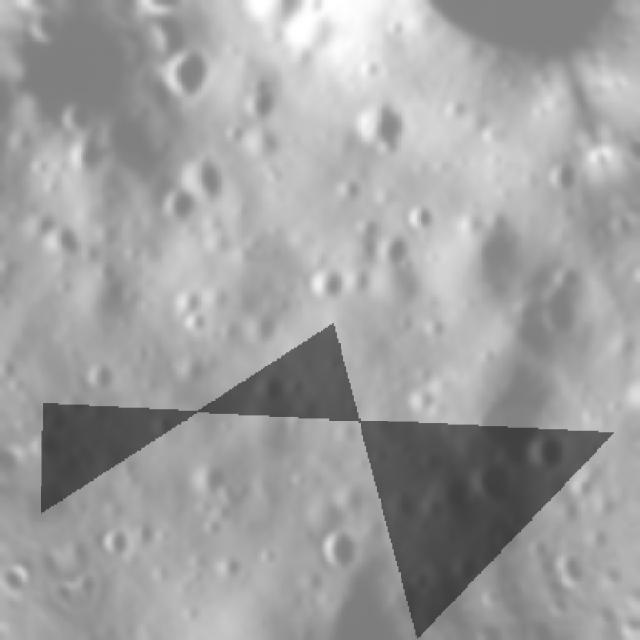crater: (292, 543, 412, 640), (521, 252, 608, 348), (342, 90, 422, 168), (148, 37, 226, 111), (175, 146, 237, 212), (462, 455, 522, 516), (520, 427, 574, 482), (312, 522, 366, 576), (154, 182, 206, 232), (302, 262, 353, 312), (538, 156, 587, 207), (239, 79, 292, 126), (188, 459, 240, 506), (37, 216, 86, 264), (370, 229, 419, 276), (78, 355, 127, 402), (244, 366, 294, 412), (583, 140, 617, 205), (241, 307, 287, 353), (94, 521, 140, 565), (53, 98, 99, 140), (26, 426, 72, 468), (397, 198, 441, 238), (444, 549, 487, 589), (150, 27, 195, 64), (488, 518, 527, 560), (209, 546, 249, 586), (143, 406, 182, 445), (88, 250, 128, 288), (167, 286, 207, 323), (400, 381, 438, 419), (402, 564, 438, 601), (618, 365, 640, 424), (178, 306, 216, 340), (418, 309, 451, 348), (332, 176, 368, 210), (414, 491, 448, 526), (254, 542, 280, 569)
